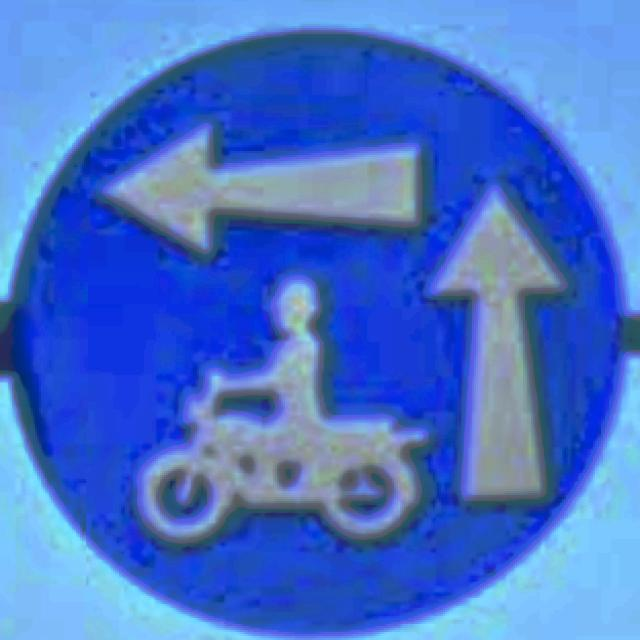twostageturn: (12, 30, 628, 640)
